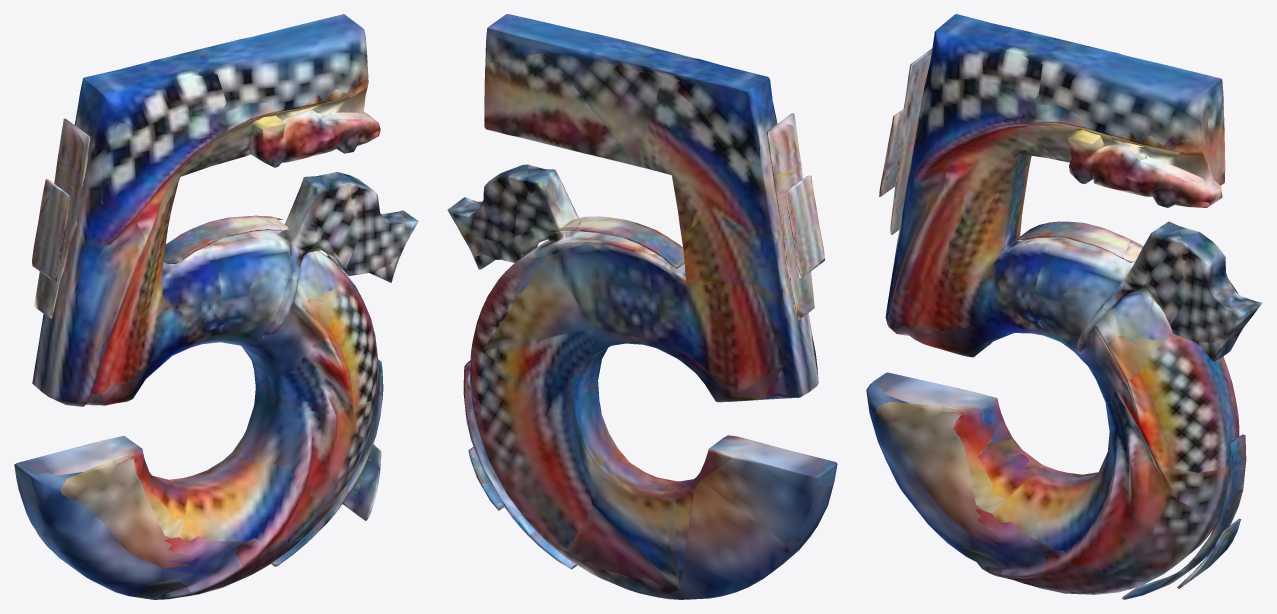
3 views of the same model, side by side, from view 1: azimuth 30°, elevation 25°; view 2: azimuth 150°, elevation 25°; view 3: azimuth 330°, elevation 25° (orthographic).
Bounding box in the file's own units: 0.4115 × 0.5474 × 0.077.
1 material, 1 textured.
